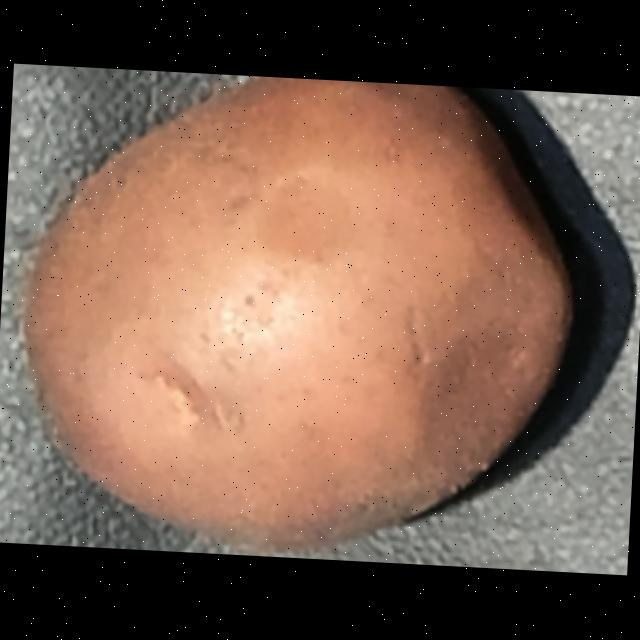Diseased-fungal potato: (12, 67, 604, 568)
